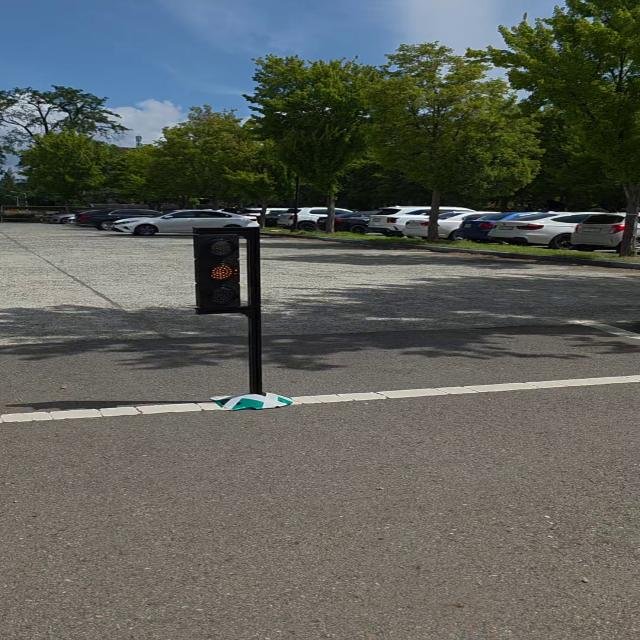yellow: (191, 228, 242, 312)
